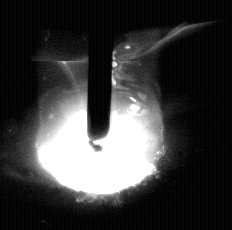arame: (88, 0, 112, 152)
poca: (36, 0, 163, 230)
